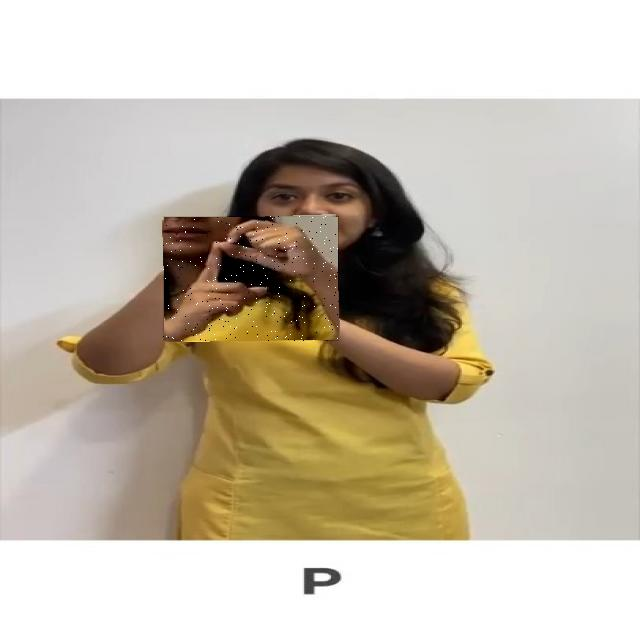P: (163, 216, 339, 341)
